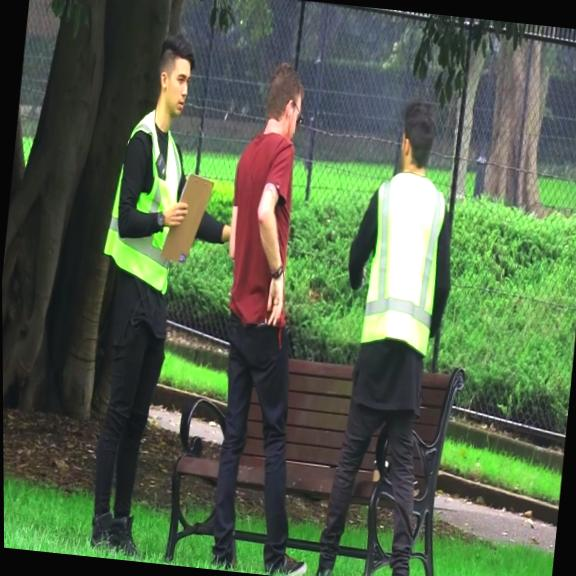safety_vest: (355, 169, 450, 356), (98, 106, 190, 296)
